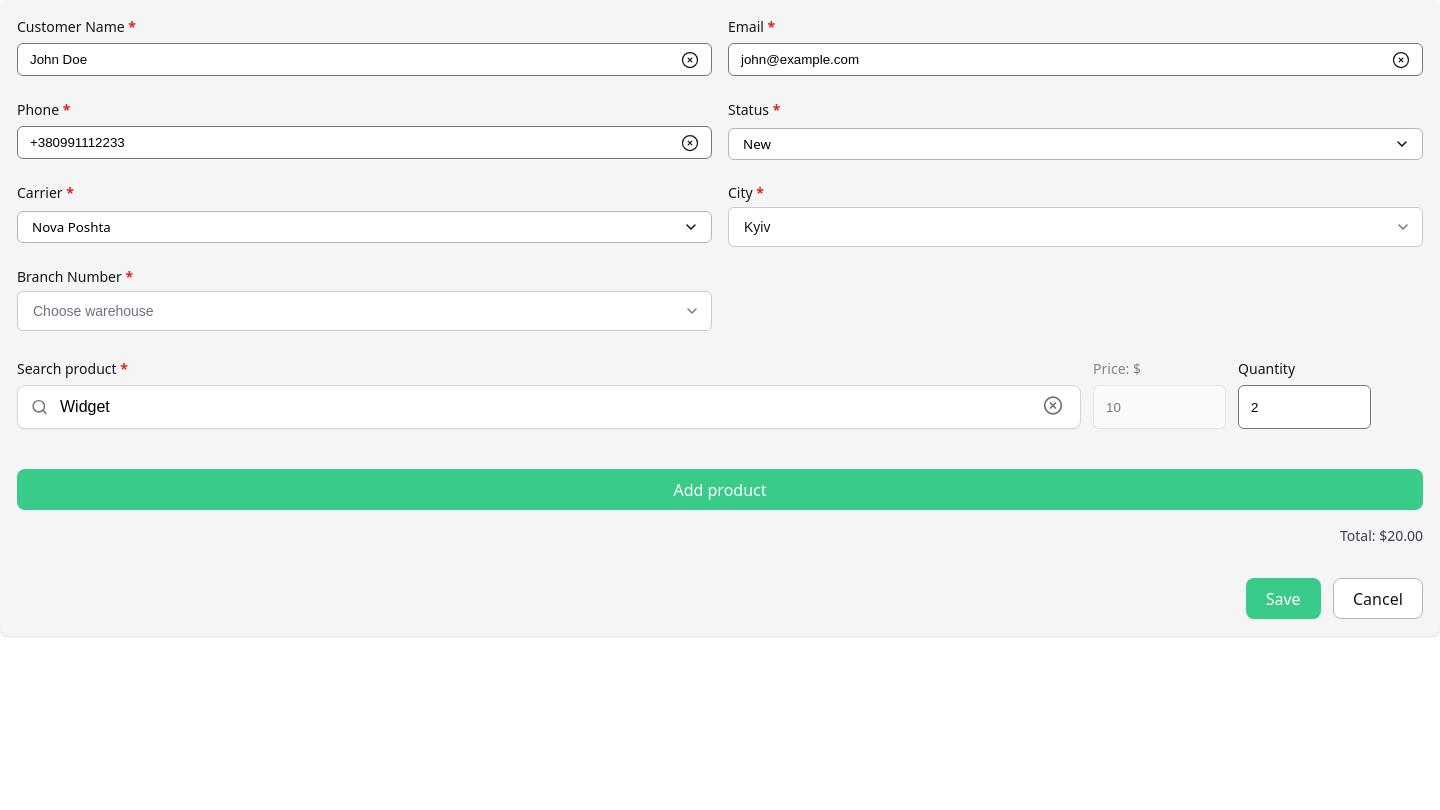
Component: AdminOrderForm › shows branch validation when city set but branch empty
The image size is (1440, 810).
Click the button "Save": point(1283, 599) x1=1246 y1=578 x2=1321 y2=619
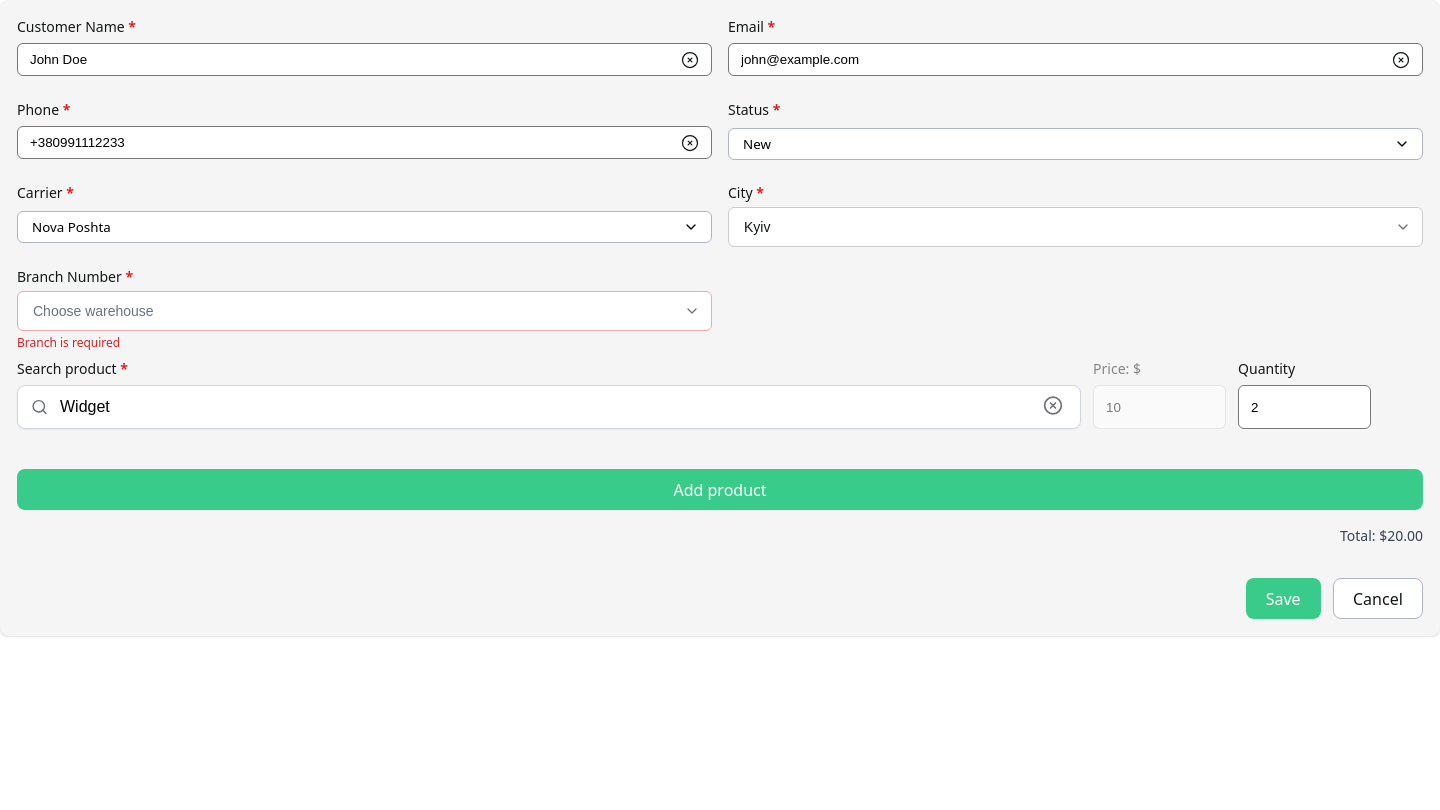
Result: the text "Branch is required" is shown at x1=17 y1=334 x2=120 y2=351
